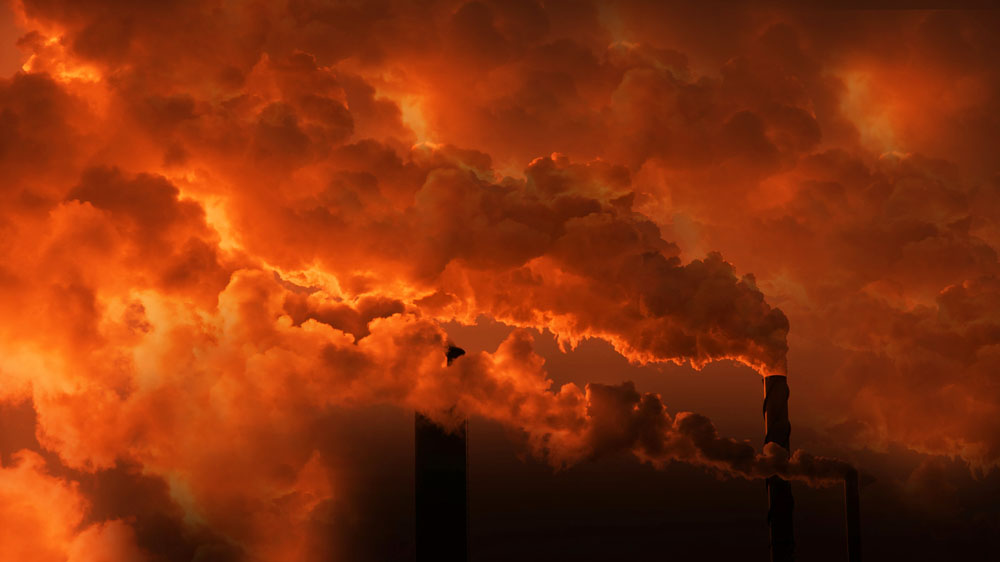dust: (297, 106, 810, 396), (372, 318, 880, 511)
